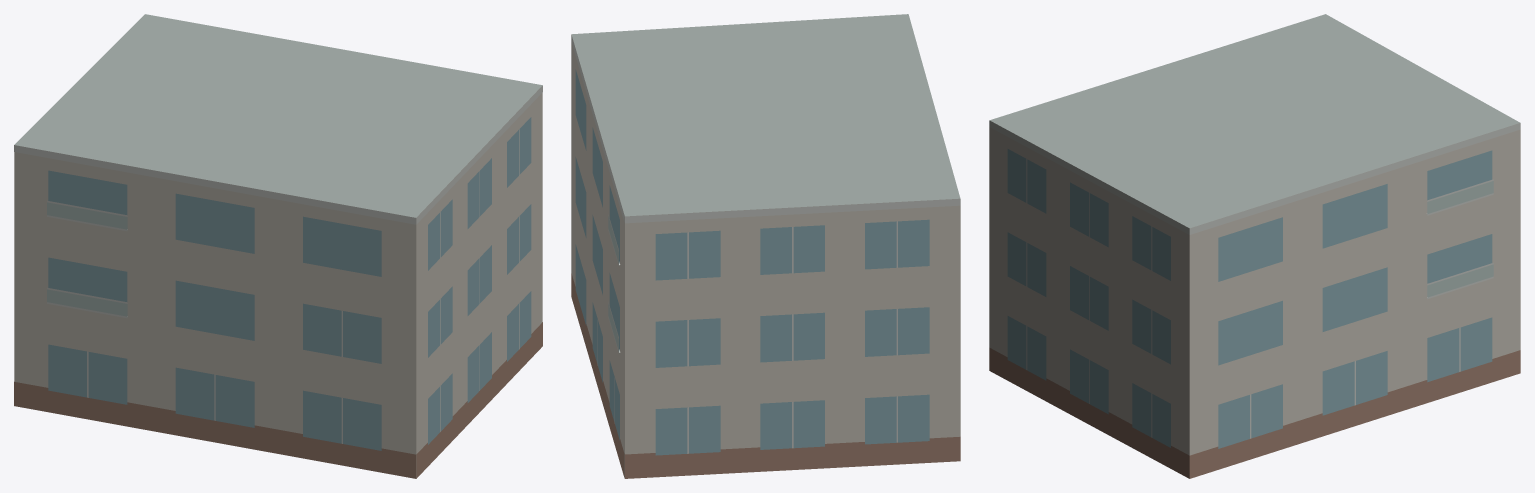
File: survey-upis-32724866.glb
The picture shows the model from 3 angles, left to right: view 1: azimuth 30°, elevation 25°; view 2: azimuth 150°, elevation 25°; view 3: azimuth 270°, elevation 25°; orthographic projection. The views are drawn at different scales.
Visible parts, largest first — view 1: survey-upis-32724866.tmp; view 2: survey-upis-32724866.tmp; view 3: survey-upis-32724866.tmp.
Boxes of the visible parts, x1,y1,x2,y2 form: survey-upis-32724866.tmp: (14,14,542,478); survey-upis-32724866.tmp: (571,14,960,478); survey-upis-32724866.tmp: (989,14,1520,478).
Size of the model in its own units: 16.8 by 9.15 by 17.59.
